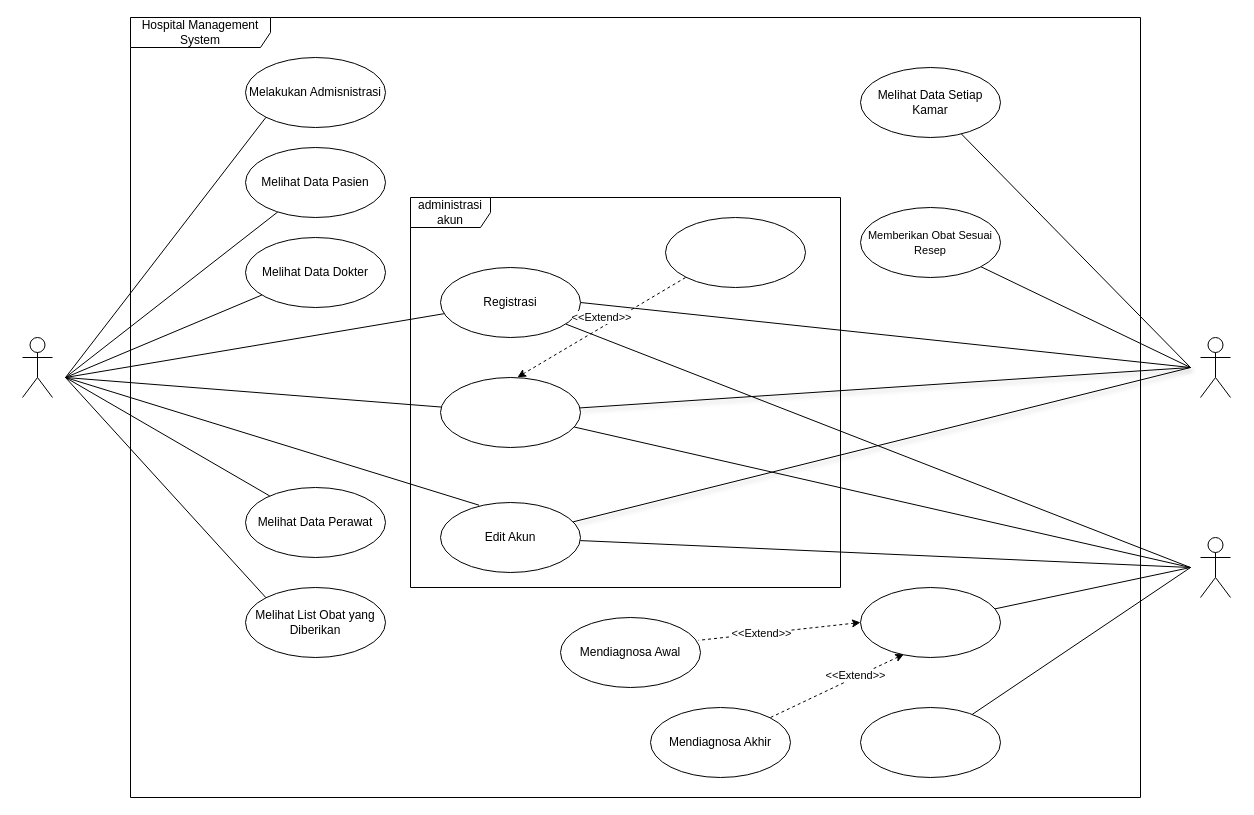
Image size: 1254x815. Some labels were removed from this diagram. The shapes that lost their labels are listed below. From the top down, each one's centre as x and y in pixels, then its label:
At (735,252): "Lupa Kata Sandi".
At (37,367): "Pasien".
At (1215,367): "Perawat".
At (510,412): "Login".
At (1215,567): "Dokter".
At (930,622): "Mendiagnosa Penyakit Pasien".
At (930,742): "Memberikan Resep Obat".
